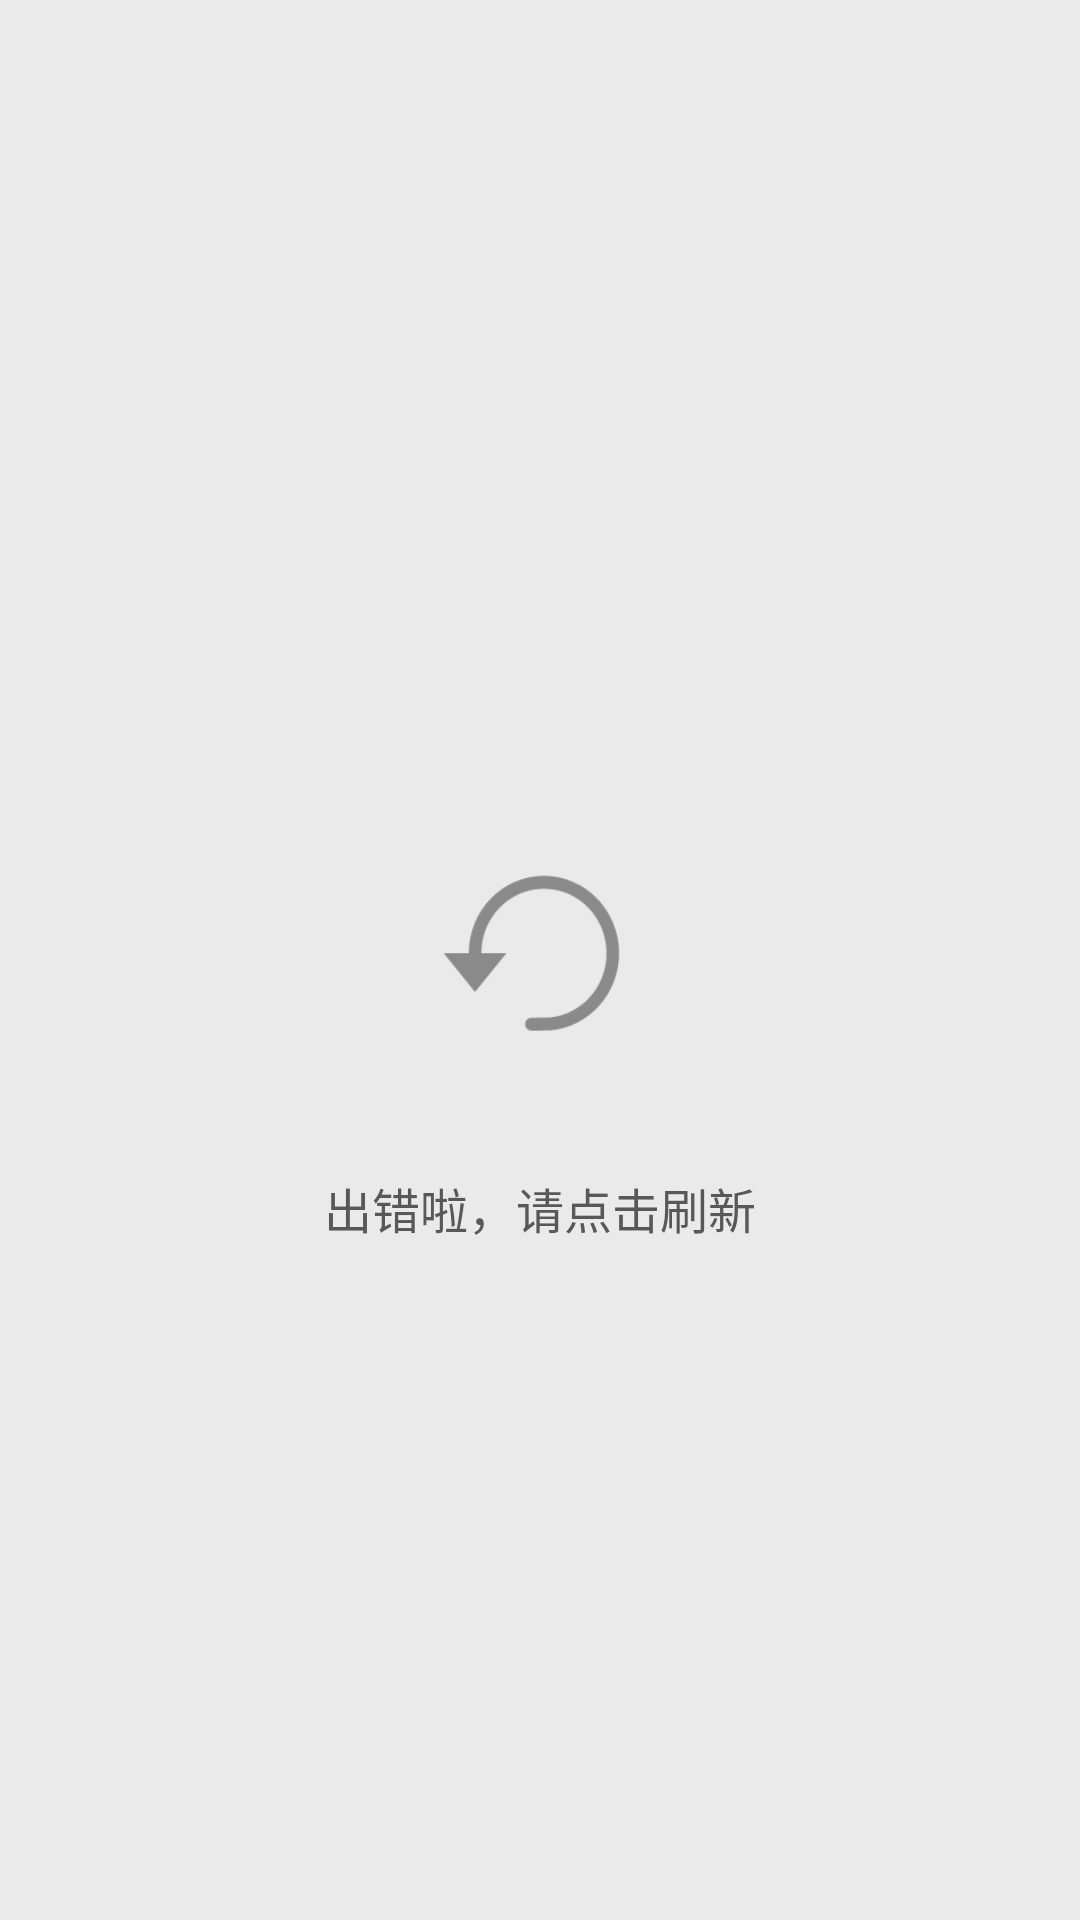

Where icons sit on this 1080px x 1920px app screen, as bbox=[x1, y1, x2, y2]:
refresh: bbox=[444, 875, 619, 1031]
